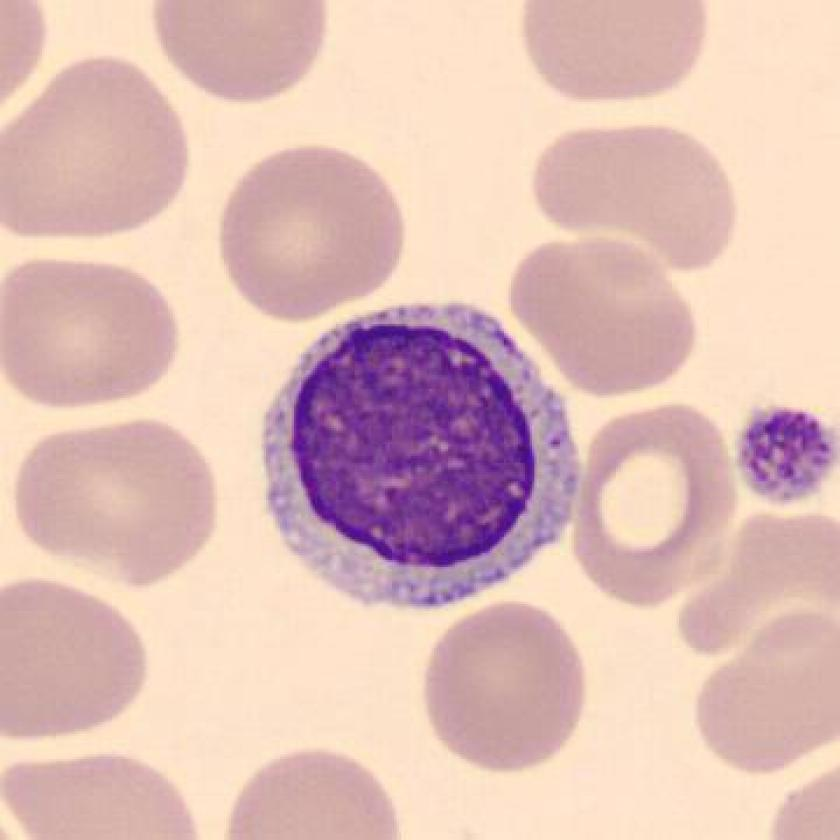lymphocyte: (248, 288, 594, 628)
platelets: (731, 397, 840, 509)
